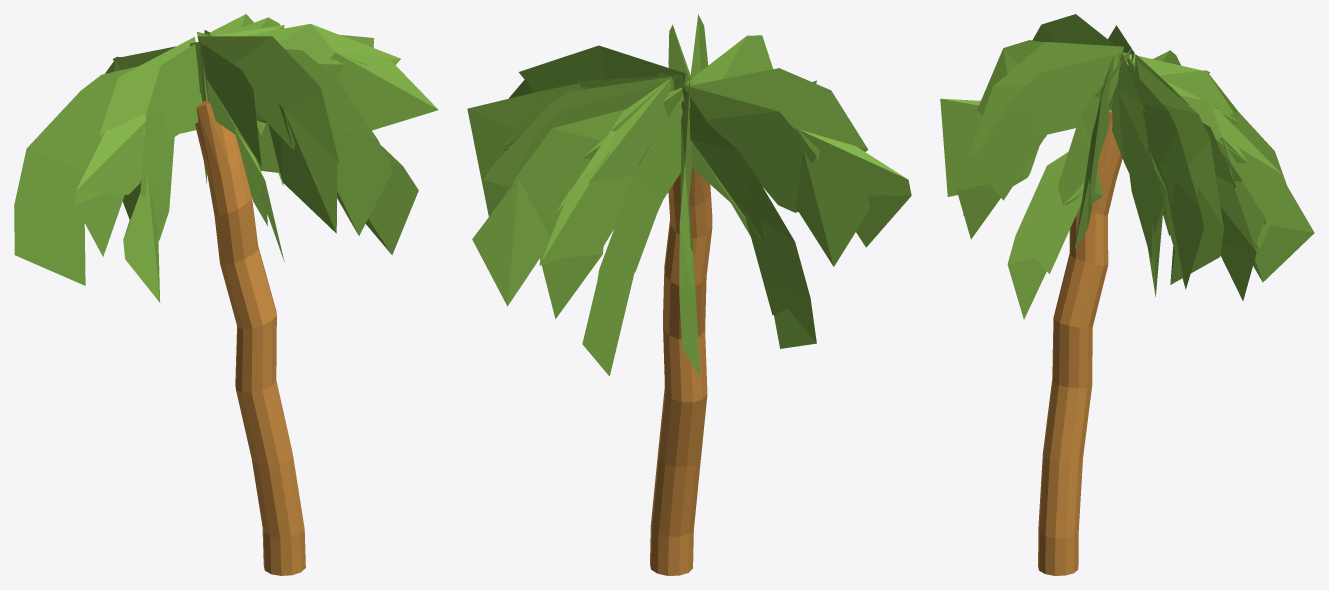
3 views of the same model, side by side, from view 1: azimuth 30°, elevation 25°; view 2: azimuth 150°, elevation 25°; view 3: azimuth 270°, elevation 25° (orthographic). The views are drawn at different scales.
Parts seen in each view (by area): view 1: mesh_551291561, group_2033907984, group_199317501, group_1563798512, group_303723010, group_137293426, group_2013818063, group_1112982328, group_1744041653, group_1114674819; view 2: mesh_551291561, group_303723010, group_761979314, group_1221962360, group_1563798512, group_2033907984, group_2100156615, group_1559828347, group_137293426, group_1114674819, group_167516316, group_1112982328 (+3 smaller); view 3: mesh_551291561, group_2013818063, group_1744041653, group_2100156615, group_167516316, group_1559828347, group_671833391, group_199317501, group_1112982328, group_761979314, group_1114674819, group_137293426 (+2 smaller).
Boxes of the visible parts, <box> form: mesh_551291561: <box>195,98,305,575</box>; group_2033907984: <box>14,66,195,285</box>; group_199317501: <box>197,36,338,233</box>; group_1563798512: <box>123,44,200,302</box>; group_303723010: <box>75,37,204,256</box>; group_137293426: <box>243,24,438,130</box>; group_2013818063: <box>255,49,392,235</box>; group_1112982328: <box>201,45,284,261</box>; group_1744041653: <box>197,32,418,254</box>; group_1114674819: <box>105,42,204,102</box>; mesh_551291561: <box>650,164,712,575</box>; group_303723010: <box>682,85,870,266</box>; group_761979314: <box>472,84,689,306</box>; group_1221962360: <box>539,78,671,318</box>; group_1563798512: <box>688,68,911,247</box>; group_2033907984: <box>679,98,816,348</box>; group_2100156615: <box>582,94,684,376</box>; group_1559828347: <box>467,74,682,216</box>; group_137293426: <box>509,45,685,98</box>; group_1114674819: <box>679,81,700,376</box>; group_167516316: <box>483,76,674,211</box>; group_1112982328: <box>686,35,816,85</box>; mesh_551291561: <box>1038,109,1122,575</box>; group_2013818063: <box>957,54,1115,239</box>; group_1744041653: <box>1007,48,1131,319</box>; group_2100156615: <box>1127,61,1314,282</box>; group_167516316: <box>1126,63,1203,289</box>; group_1559828347: <box>1111,53,1163,296</box>; group_671833391: <box>1135,61,1223,284</box>; group_199317501: <box>963,42,1123,215</box>; group_1112982328: <box>940,40,1125,196</box>; group_761979314: <box>1126,54,1256,300</box>; group_1114674819: <box>1122,52,1286,184</box>; group_137293426: <box>1074,56,1113,249</box>.
Bounding box in the file's own units: 79.66 × 112 × 73.18.
